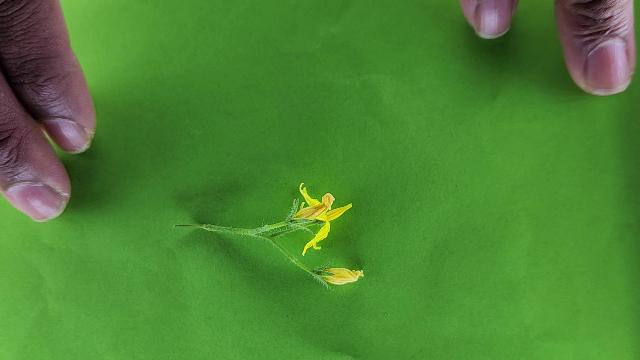Anthesis: (318, 265, 371, 290)
